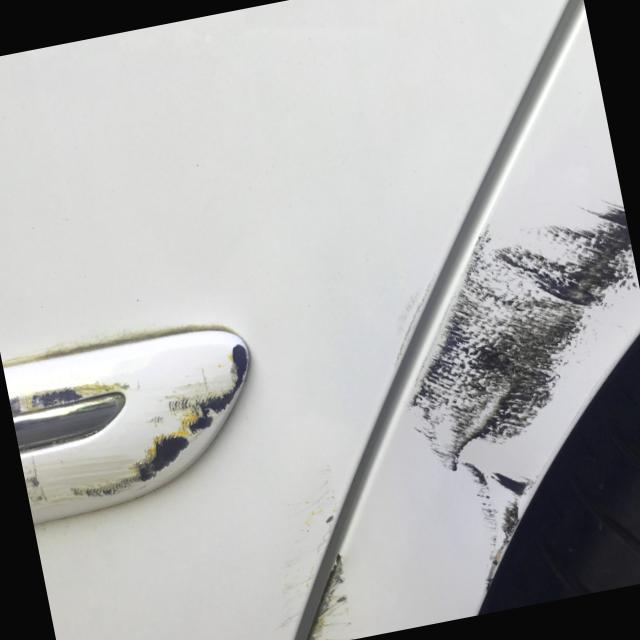Rayure: (5, 328, 280, 529), (252, 523, 373, 640)
